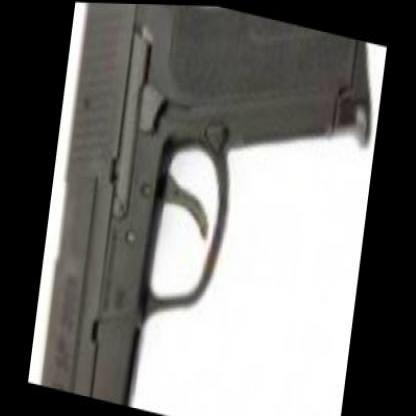pistol: (27, 0, 373, 415)
